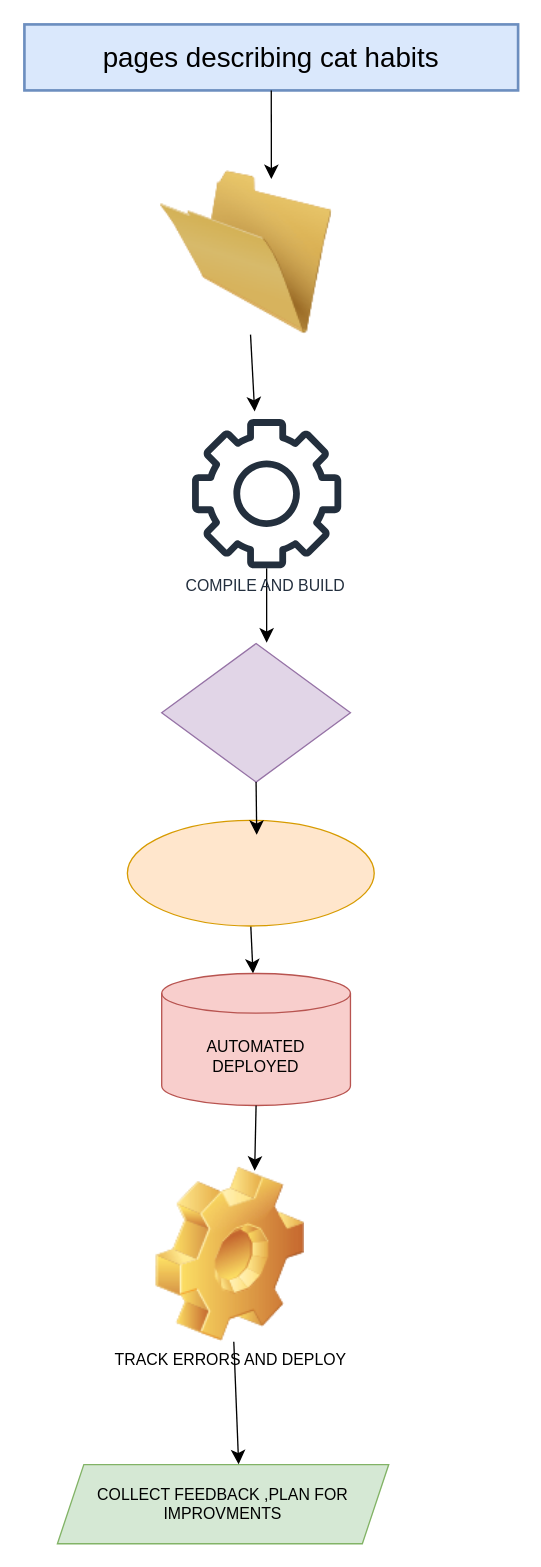
This 541x1567 diagram has some shape labels left out. Each missing label, with the centre of its shape:
"USE TOOLS LIKE DOCKER AND OTHER LIVE SERVERS" belongs at point (250, 872).
"WHY CATS SLEEP TO MUCH" belongs at point (255, 712).
"WRITE HTML&CSS CODE" belongs at point (245, 252).
